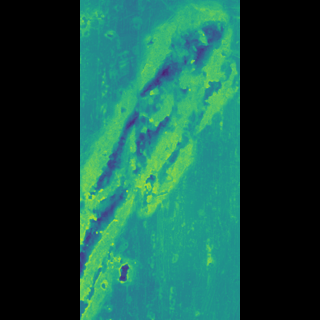Loch: (120, 4, 200, 318)
